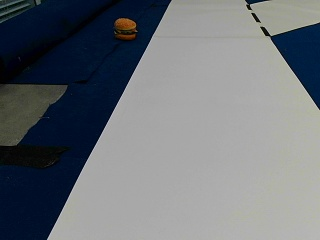burger: (113, 15, 137, 40)
